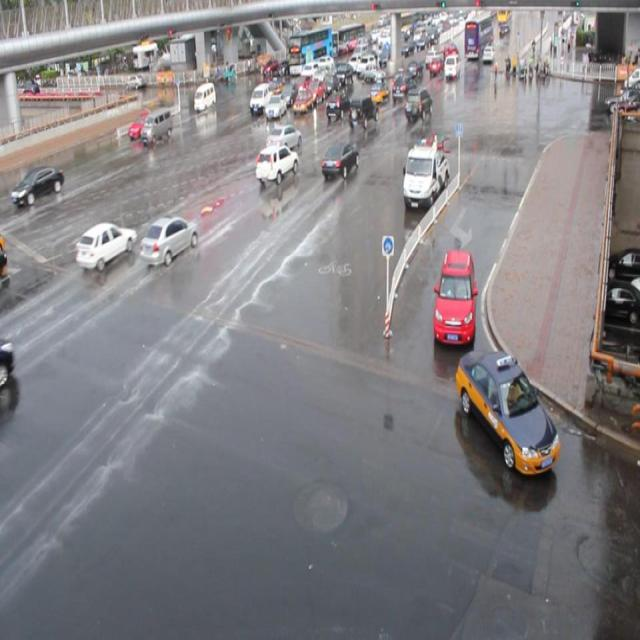bus: (401, 135, 448, 203)
car: (455, 348, 559, 472), (432, 249, 476, 342), (139, 215, 198, 266), (75, 222, 136, 270), (15, 165, 65, 206), (255, 144, 298, 184), (321, 139, 359, 177), (347, 95, 378, 129), (266, 124, 301, 152), (402, 88, 432, 120), (324, 91, 351, 119), (0, 342, 16, 388), (391, 73, 416, 100), (128, 111, 153, 138), (264, 90, 286, 115), (291, 85, 312, 111), (367, 80, 390, 103), (264, 77, 287, 100), (305, 75, 324, 98), (279, 79, 298, 101), (292, 70, 310, 91)
truck: (140, 108, 173, 143), (249, 82, 272, 114), (194, 83, 216, 111)
